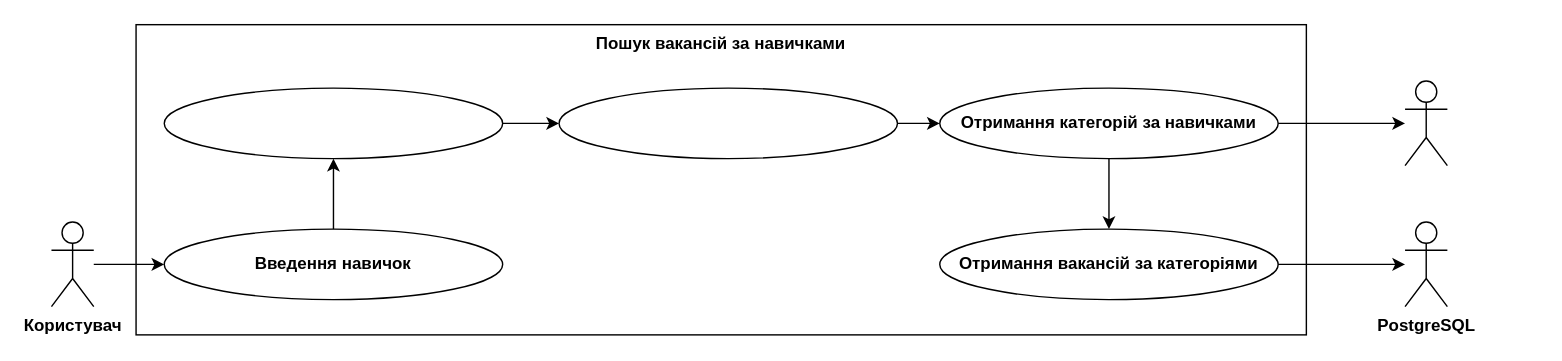
This 1562x361 diagram has some shape labels left out. The centre of each missing label's shape, as x and y in pixels:
Звернення до серверу: (727,123)
Модель для аналізу даних: (1425,123)
Натиснення кнопки "Search": (333,123)
